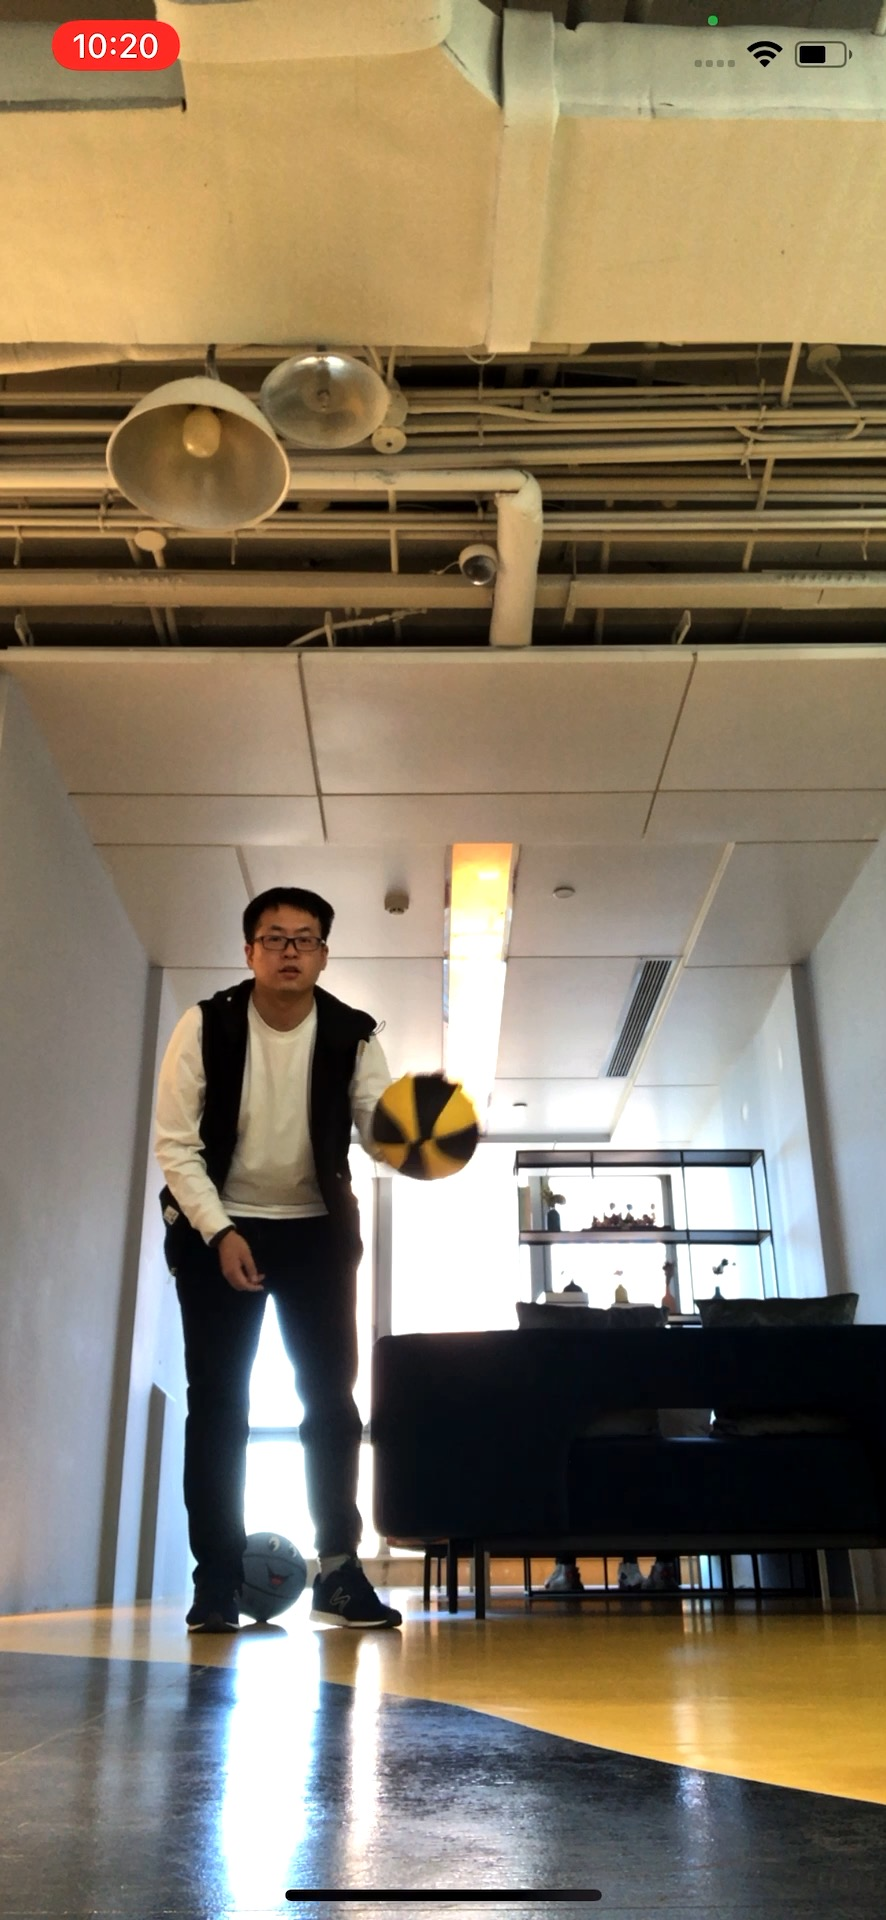ball: (372, 1071, 482, 1182), (226, 1529, 303, 1619)
